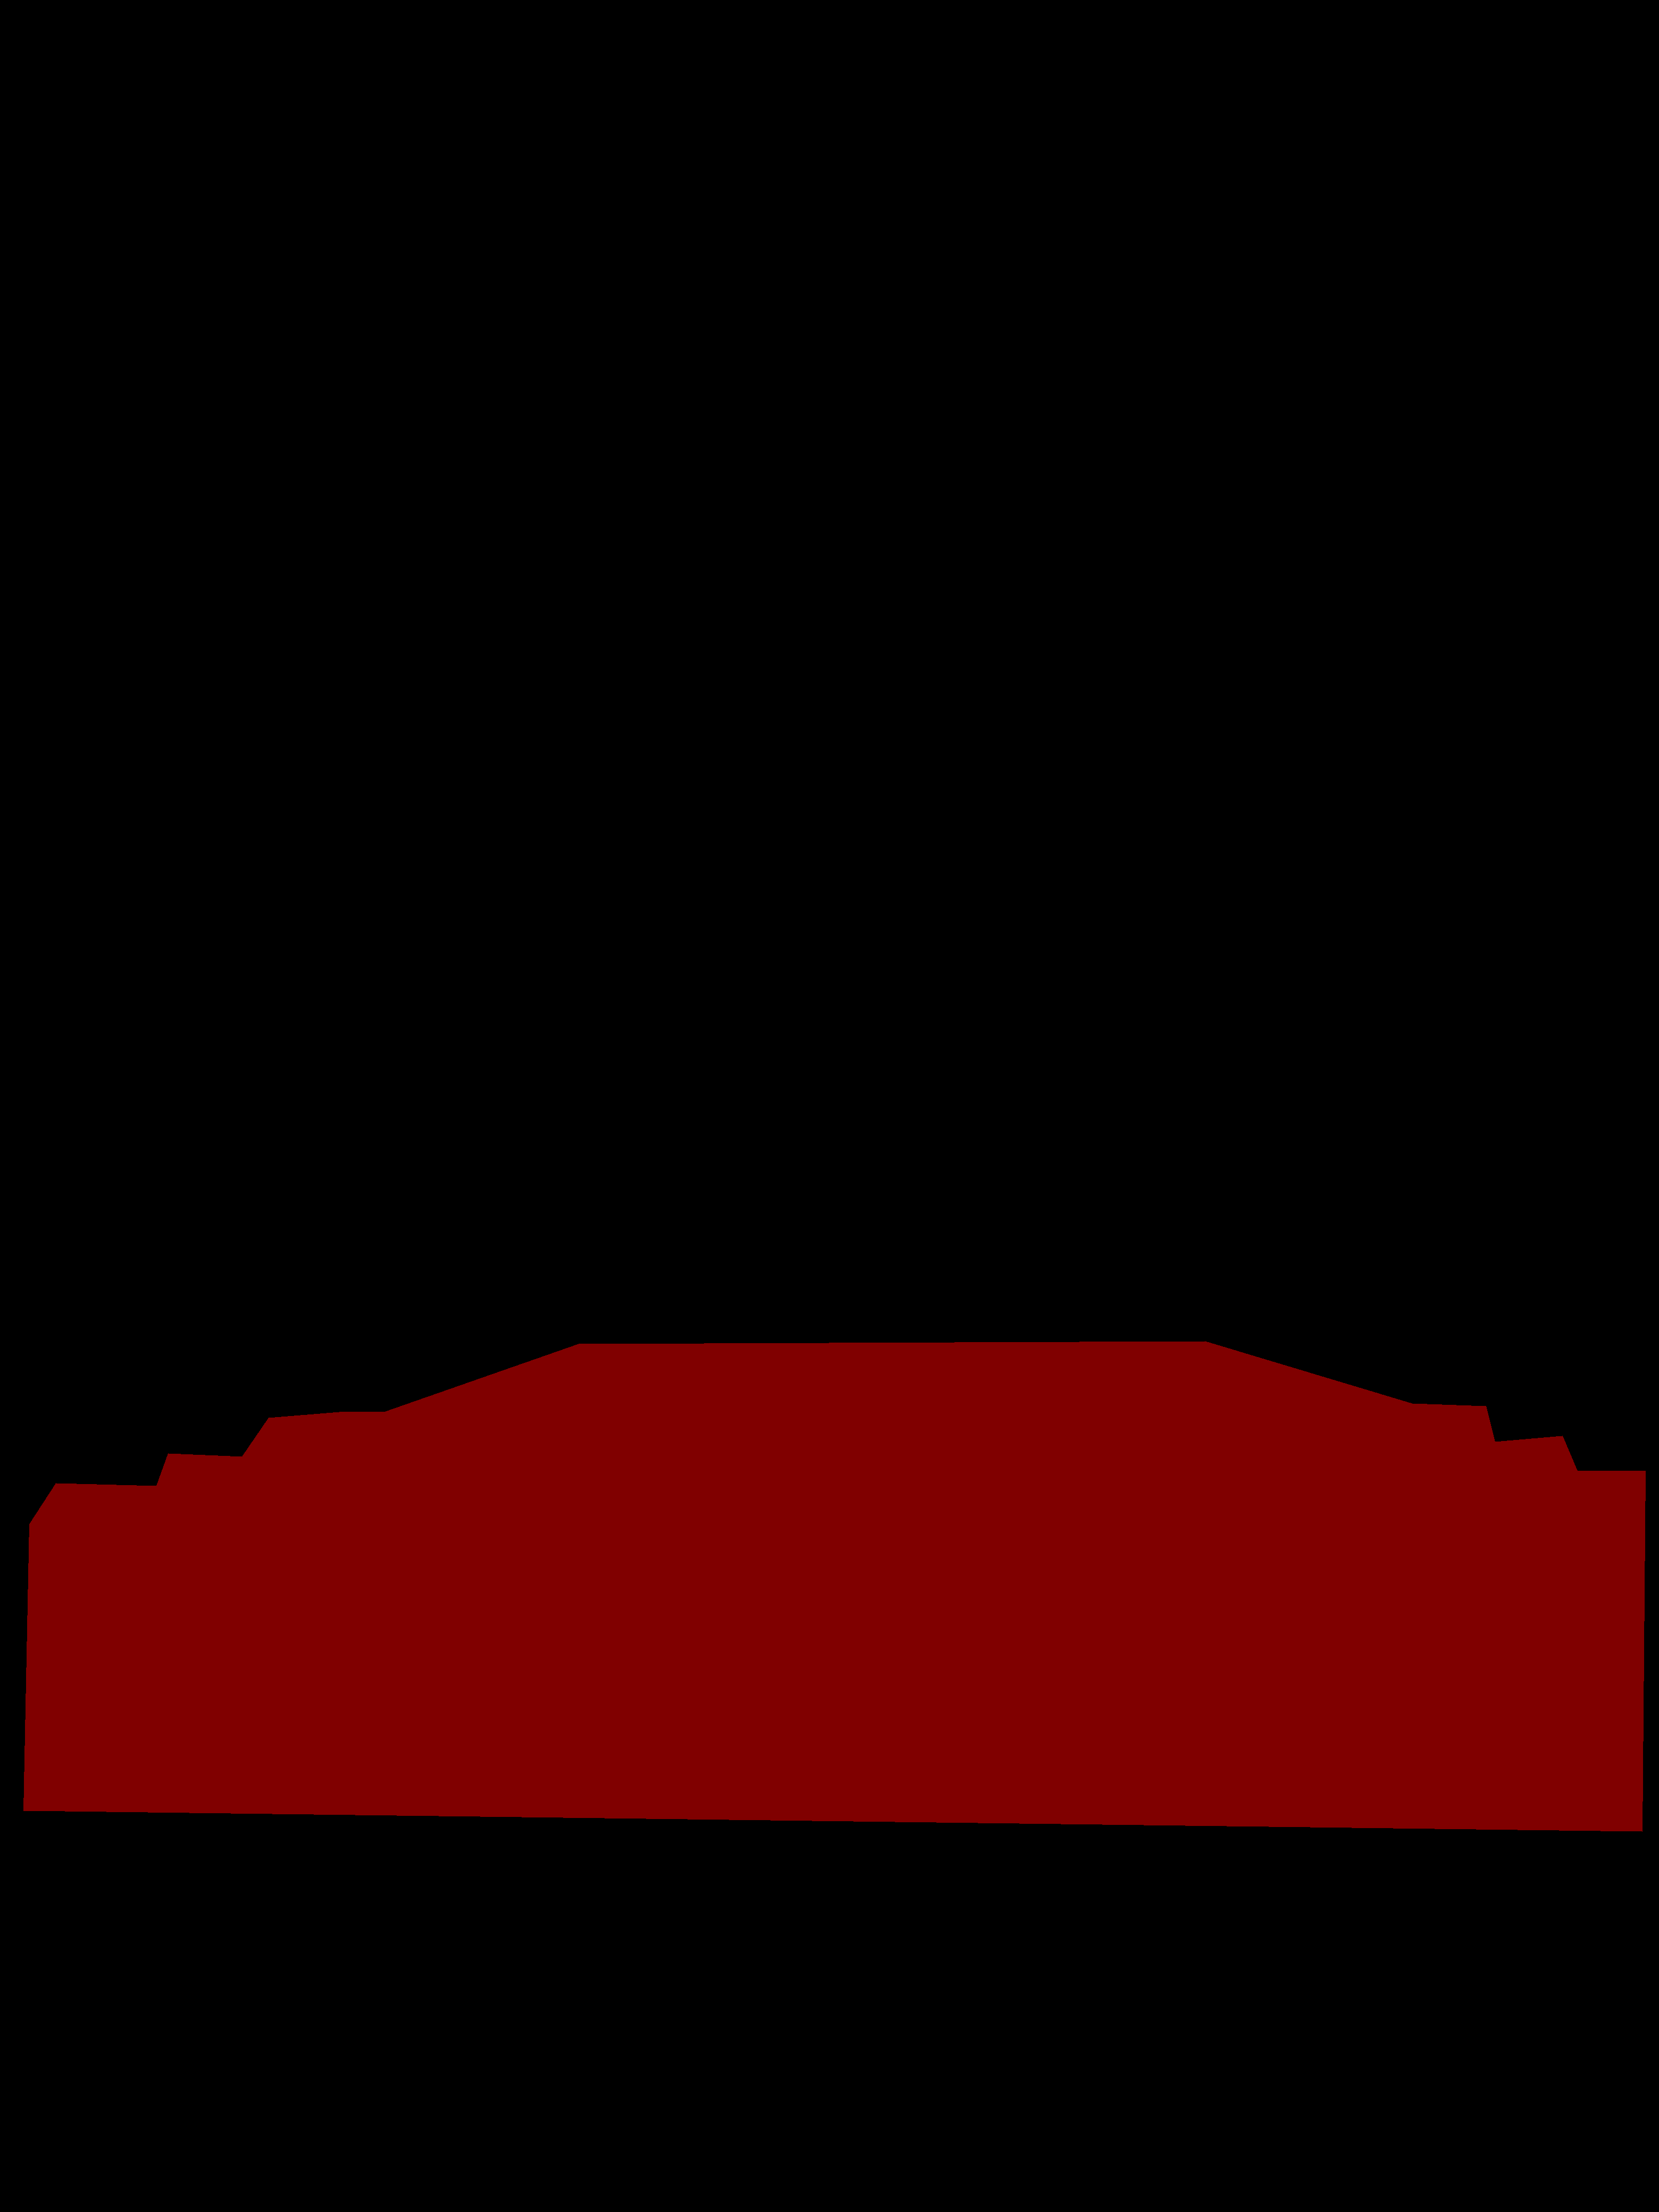stair: (23, 1341, 1645, 1831)
